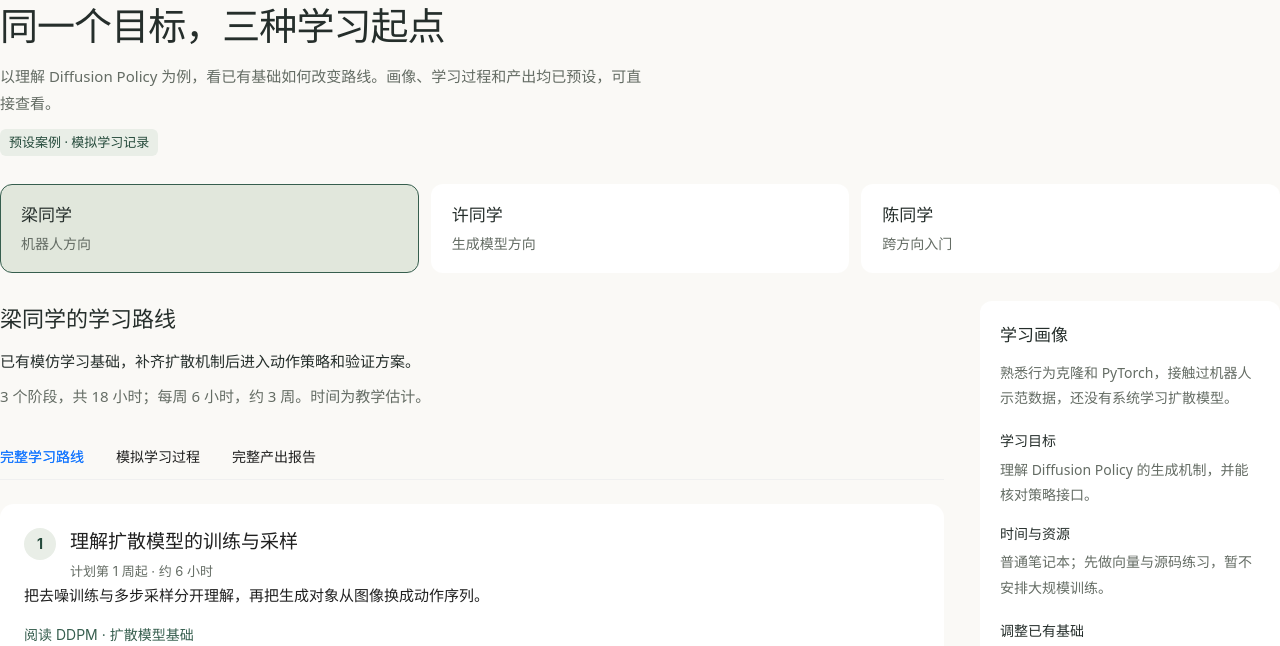
the complete demo is available immediately and changes prerequisites with the learner
This screenshot has width=1280, height=646.
Expected: the heading "理解扩散模型的训练与采样" is shown, [70, 528, 298, 556]
Expected: the heading "建立机器人模仿学习的问题框架" is not shown
Click the button "许同学 生成模型方向": (477, 215) [431, 184, 849, 273]
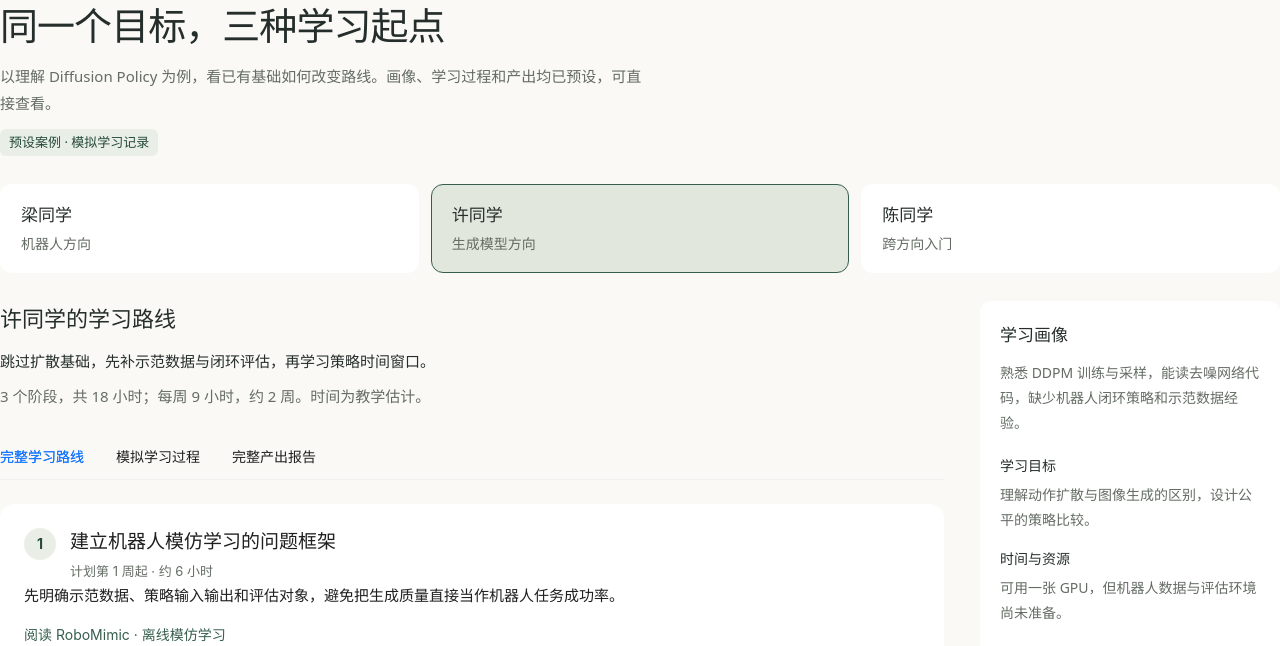
Now the heading "建立机器人模仿学习的问题框架" is shown, box [70, 528, 336, 556]
Now the heading "理解扩散模型的训练与采样" is gone
Click the tab "模拟学习过程": (158, 457) [116, 446, 200, 468]
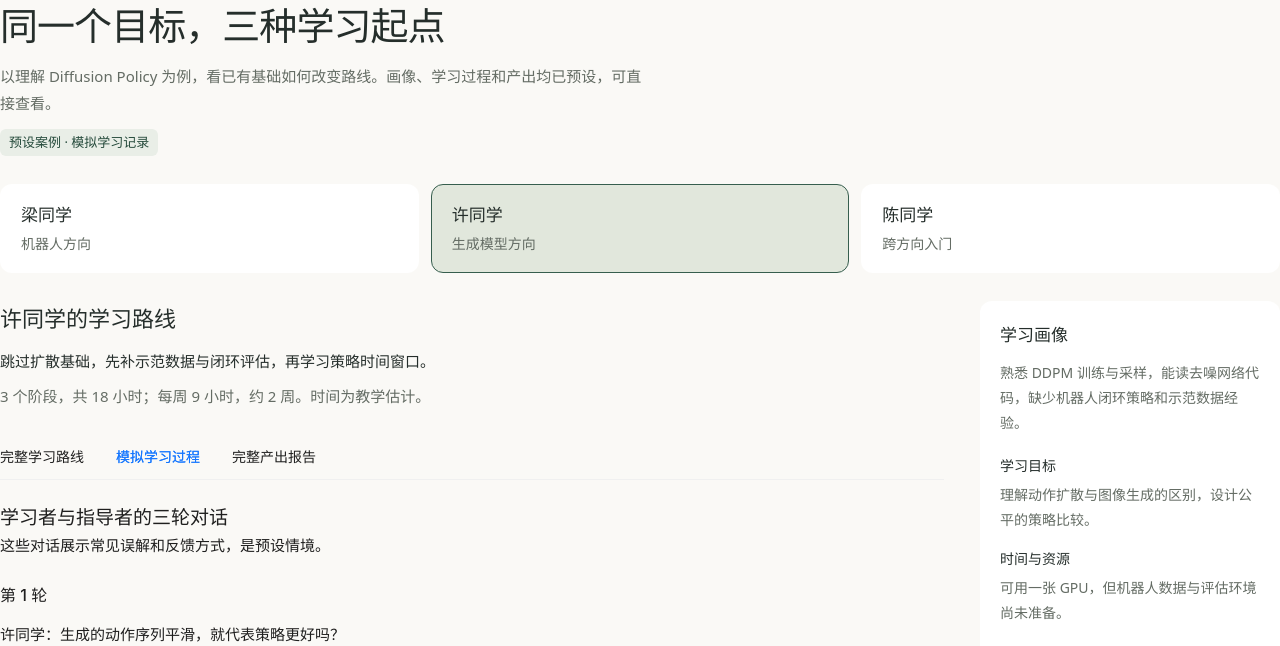
Now the text "生成的动作序列平滑，就代表策略更好吗？" is shown, box [60, 624, 345, 644]
Click the tab "完整产出报告": (274, 457) [232, 446, 316, 468]
(page scrolled)
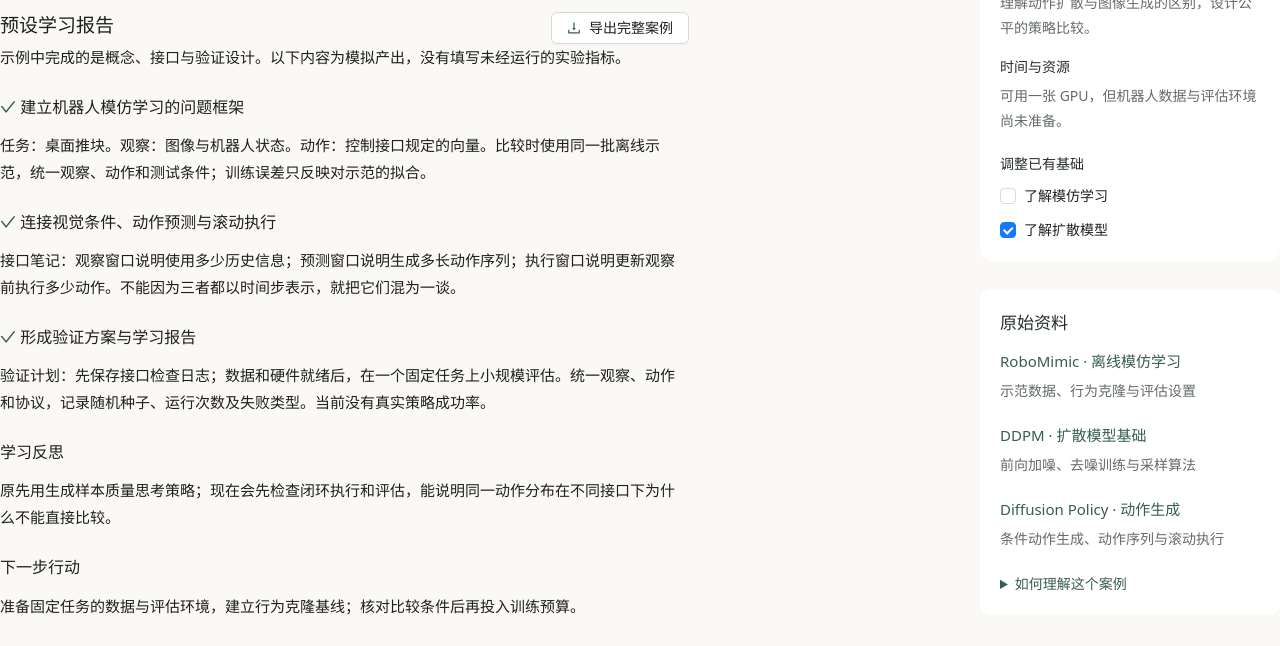
Now the button "导出完整案例" is shown, box [551, 12, 689, 44]
Now the heading "学习反思" is shown, box [0, 442, 64, 462]
